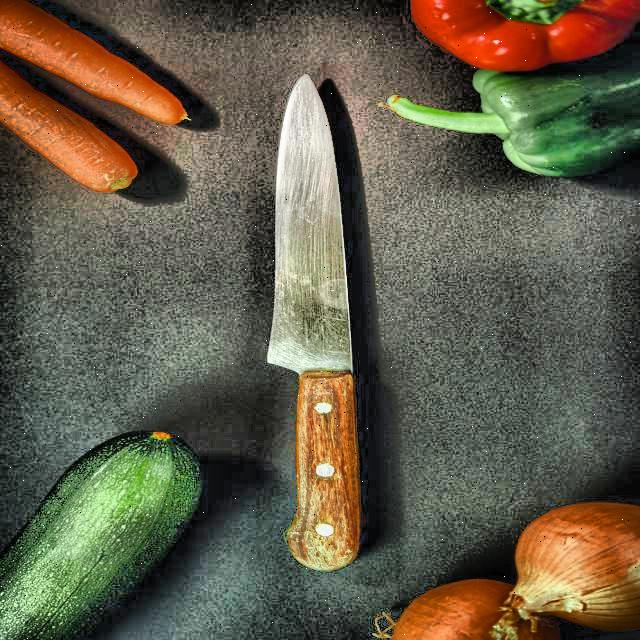knife: (270, 71, 367, 576)
